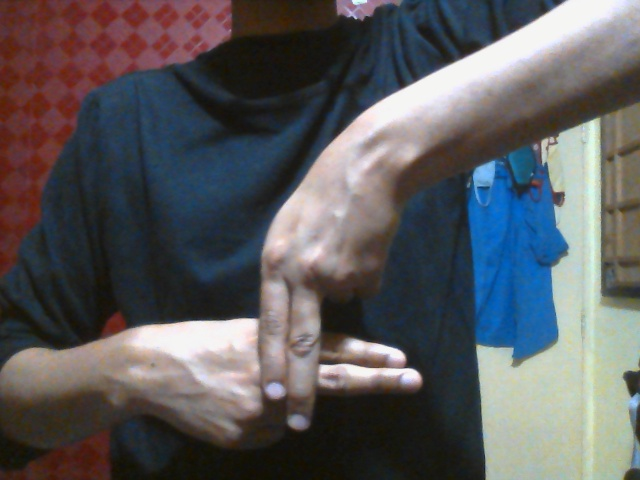F: (140, 161, 425, 454)
